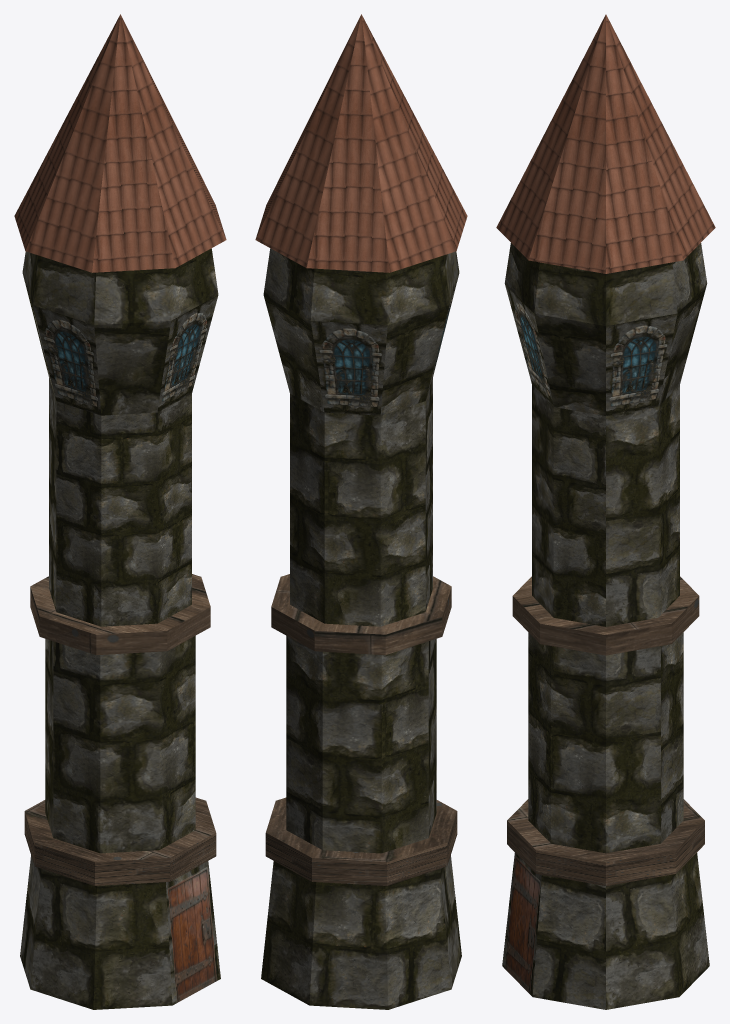
File: LowPoly_Tomedelic_WizardTower.fbx
3 renders of one model, left to right at view 1: azimuth 30°, elevation 25°; view 2: azimuth 150°, elevation 25°; view 3: azimuth 270°, elevation 25°, orthographic.
Visible parts, largest first — view 1: Cylinder; view 2: Cylinder; view 3: Cylinder.
Part boxes in pixels (x1=…): Cylinder: x1=14, y1=14, x2=226, y2=1009; Cylinder: x1=255, y1=14, x2=467, y2=1009; Cylinder: x1=496, y1=14, x2=715, y2=1009.
Bounding box in the file's own units: 211 × 1011 × 211.
Materials: 1 (1 with a texture image).
